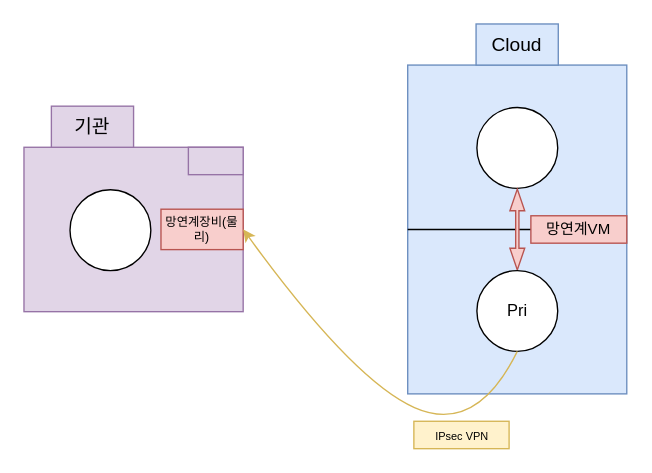
Some shapes in this 652 by 473 pixel diagram are drawn without their labels. The centre of each missing label's shape, as x and y in pixels:
Pub: [517,147]
내부: [110,229]
외부: [215,160]
